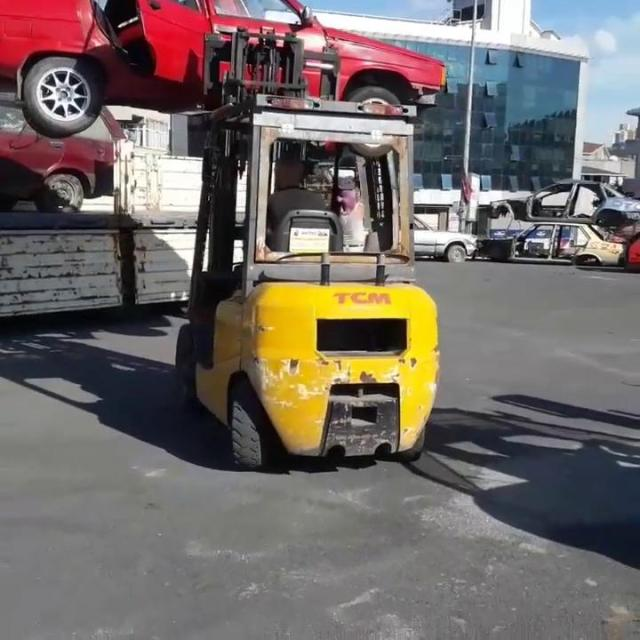forklift: (183, 86, 441, 476)
person: (316, 165, 385, 250)
